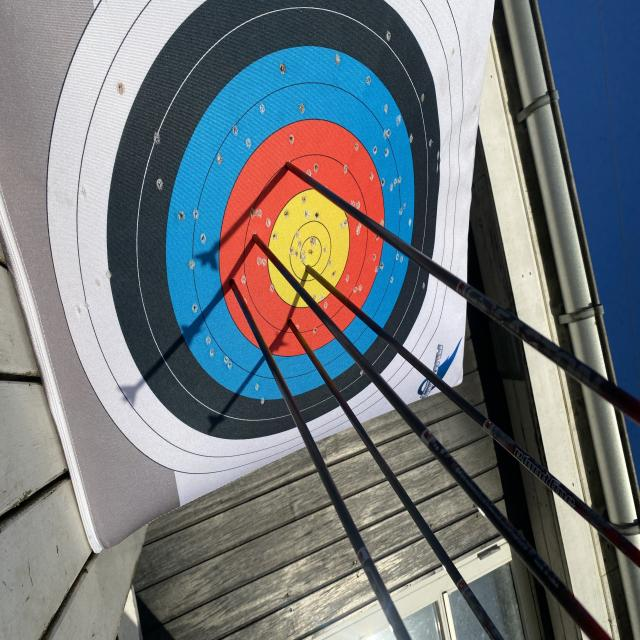Arrow_Red: (244, 221, 269, 260), (278, 154, 306, 188), (220, 266, 241, 296), (276, 311, 301, 336)
Arrow_Yellow: (303, 258, 320, 284)
